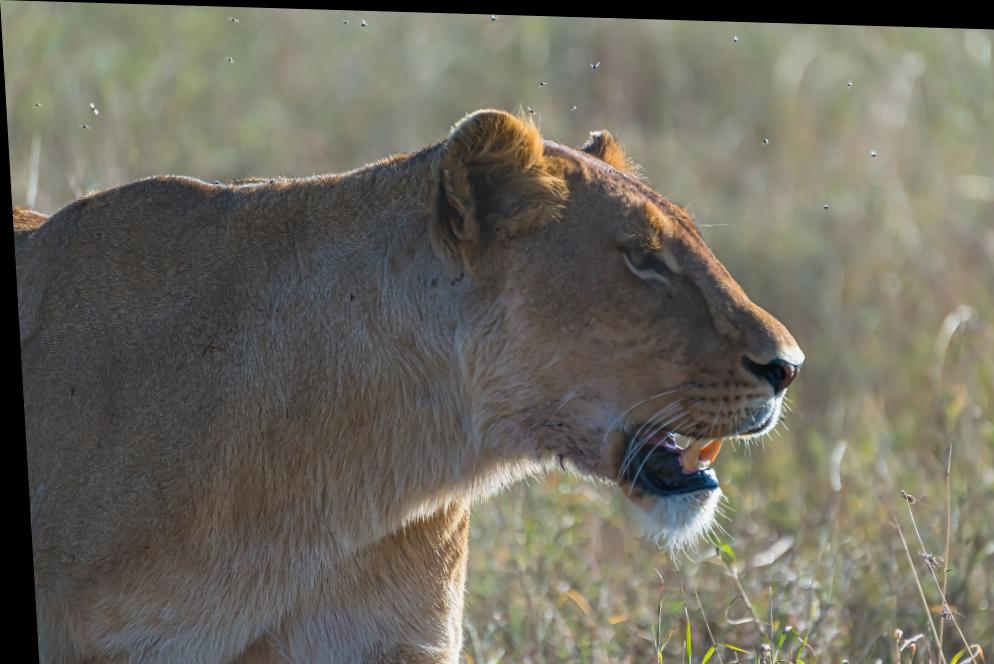lioness: (4, 92, 814, 664)
